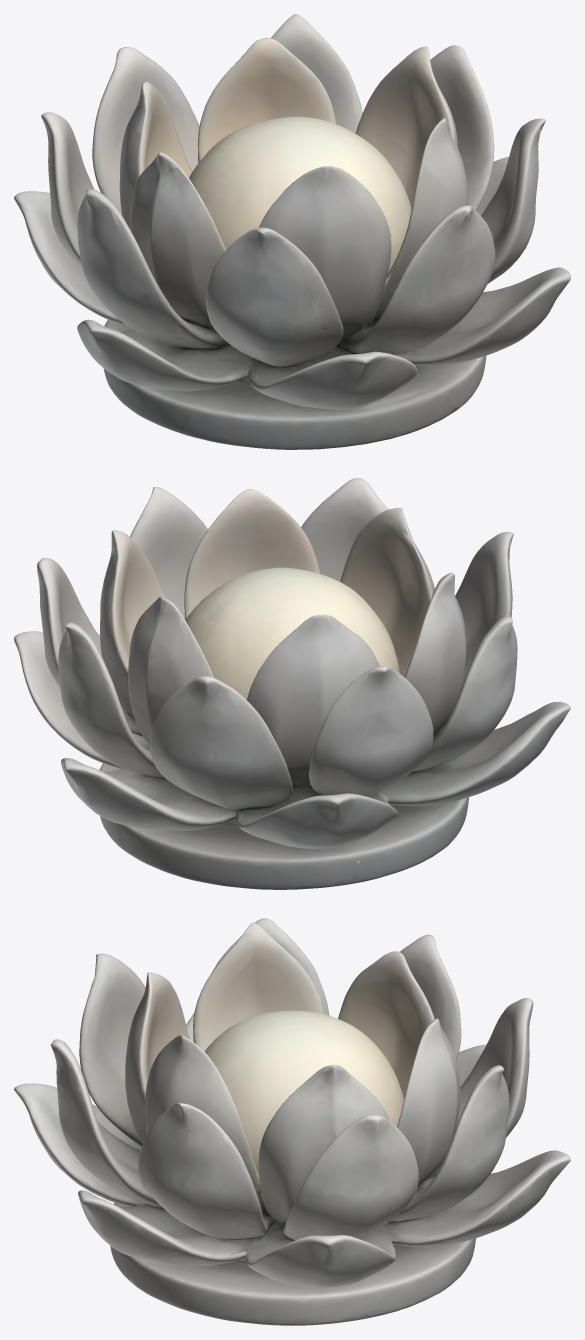
Rendered from lotus.glb.
The picture shows the model from 3 angles, top to bottom: view 1: azimuth 30°, elevation 25°; view 2: azimuth 150°, elevation 25°; view 3: azimuth 270°, elevation 25°; orthographic projection. The views are drawn at different scales.
Visible parts, largest first — view 1: tripo_node_a40c5e40-adde-48d6-b444-b52878a1a997; view 2: tripo_node_a40c5e40-adde-48d6-b444-b52878a1a997; view 3: tripo_node_a40c5e40-adde-48d6-b444-b52878a1a997.
Boxes of the visible parts, <box> form: tripo_node_a40c5e40-adde-48d6-b444-b52878a1a997: <box>14,14,570,449</box>; tripo_node_a40c5e40-adde-48d6-b444-b52878a1a997: <box>14,478,570,889</box>; tripo_node_a40c5e40-adde-48d6-b444-b52878a1a997: <box>14,918,570,1325</box>.
Bounding box in the file's own units: 0.9778 × 0.4993 × 0.978.
Materials: 1 (1 with a texture image).
